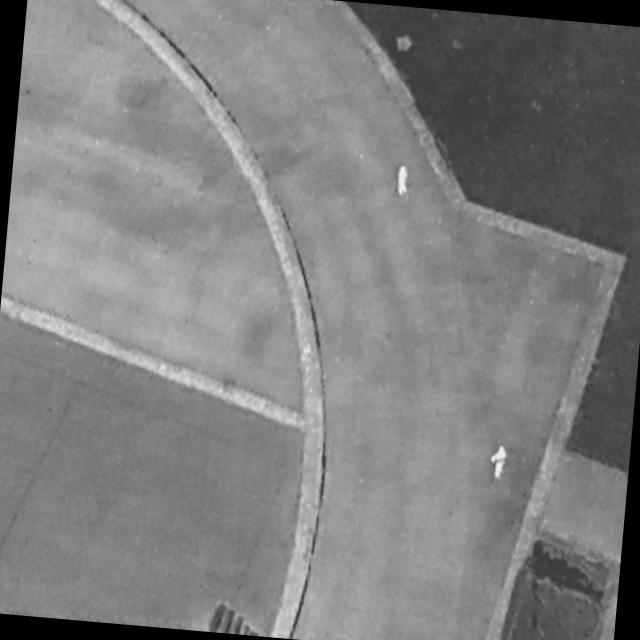person: (489, 440, 509, 480), (393, 163, 411, 197)
